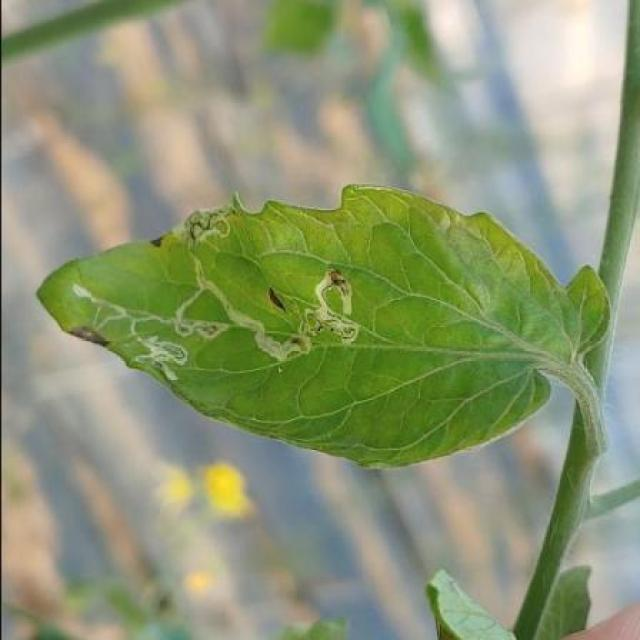Leaf Miner: (35, 184, 611, 469)
